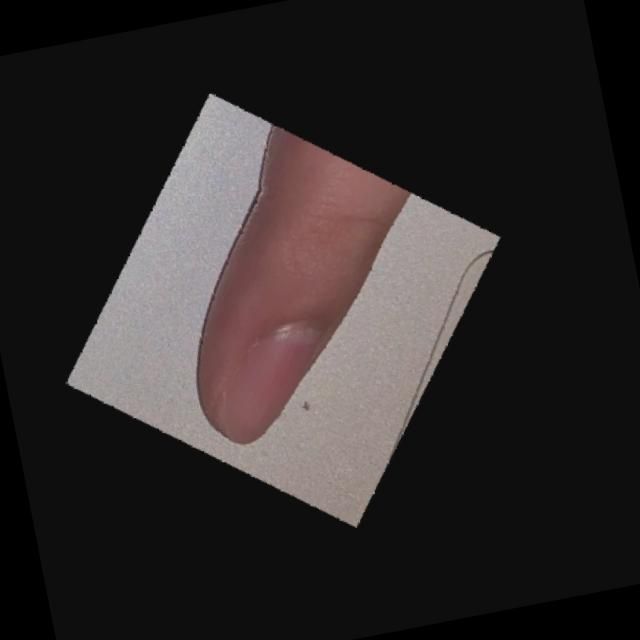Nail: (223, 322, 321, 444)
